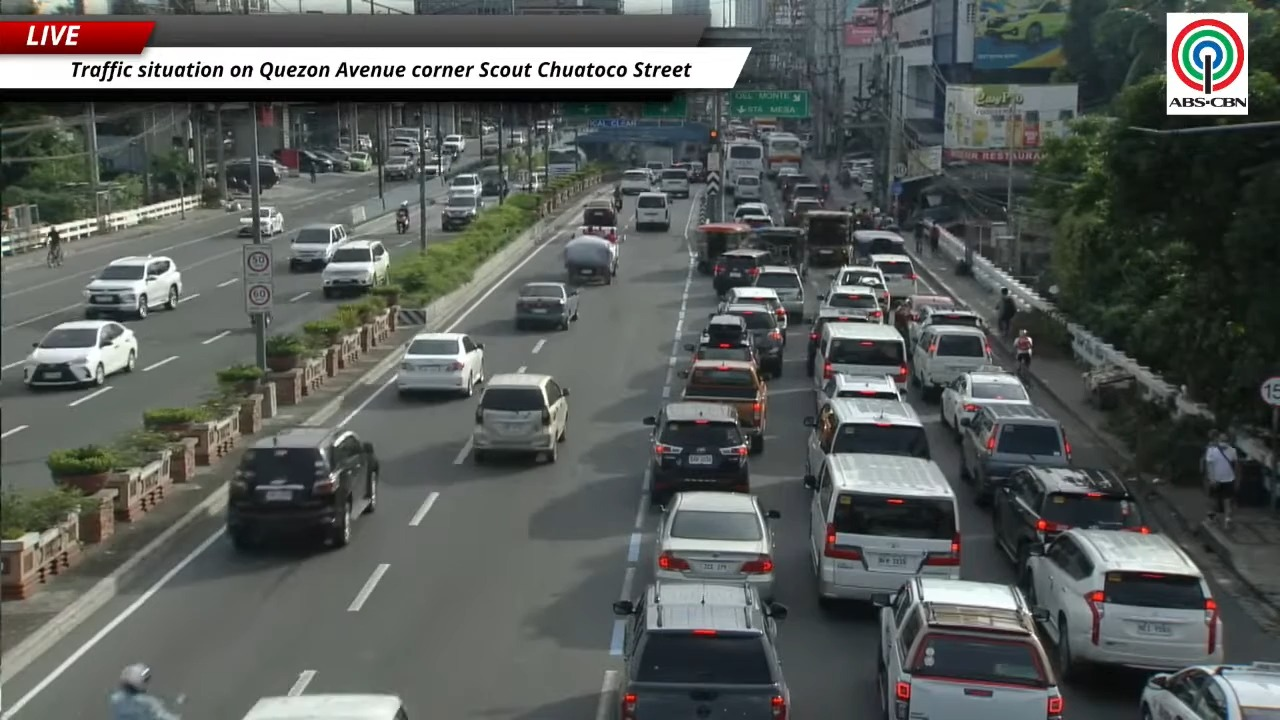bus: (724, 142, 764, 192), (764, 132, 802, 177), (547, 146, 586, 178)
car: (1025, 528, 1223, 678), (873, 578, 1064, 719), (611, 582, 790, 719), (804, 453, 961, 608), (226, 428, 379, 550), (991, 466, 1149, 572), (654, 490, 780, 601), (643, 402, 749, 505), (960, 405, 1070, 504), (804, 398, 930, 474), (472, 373, 569, 463), (1140, 662, 1279, 719), (23, 320, 137, 387), (84, 256, 182, 319), (912, 325, 995, 399), (940, 367, 1032, 433), (812, 323, 908, 385), (396, 333, 484, 396), (712, 301, 784, 377), (242, 693, 408, 719), (806, 309, 864, 376), (322, 240, 389, 298), (983, 0, 1067, 46), (719, 285, 788, 332), (815, 373, 902, 410), (754, 265, 805, 326), (515, 282, 579, 329), (908, 306, 986, 344), (894, 294, 957, 340), (289, 223, 348, 271), (712, 248, 770, 295), (818, 285, 884, 323), (831, 265, 889, 308), (684, 335, 757, 368), (871, 255, 917, 304), (441, 193, 482, 231), (700, 314, 750, 344), (635, 191, 670, 231), (778, 173, 813, 203), (786, 197, 822, 226), (658, 168, 690, 197), (310, 149, 349, 171), (448, 173, 482, 197), (298, 151, 335, 173), (383, 155, 416, 179), (619, 170, 652, 194), (733, 175, 763, 201), (733, 201, 770, 221), (791, 181, 823, 203), (259, 207, 283, 235), (387, 139, 421, 157), (388, 138, 422, 156), (441, 134, 464, 157), (738, 215, 775, 228), (775, 166, 799, 186), (684, 161, 706, 182), (645, 161, 665, 184), (348, 152, 372, 170), (481, 138, 500, 158)
motorcycle: (837, 170, 852, 188), (396, 214, 409, 234)
truck: (680, 360, 767, 452), (804, 210, 852, 267), (640, 145, 673, 167)
